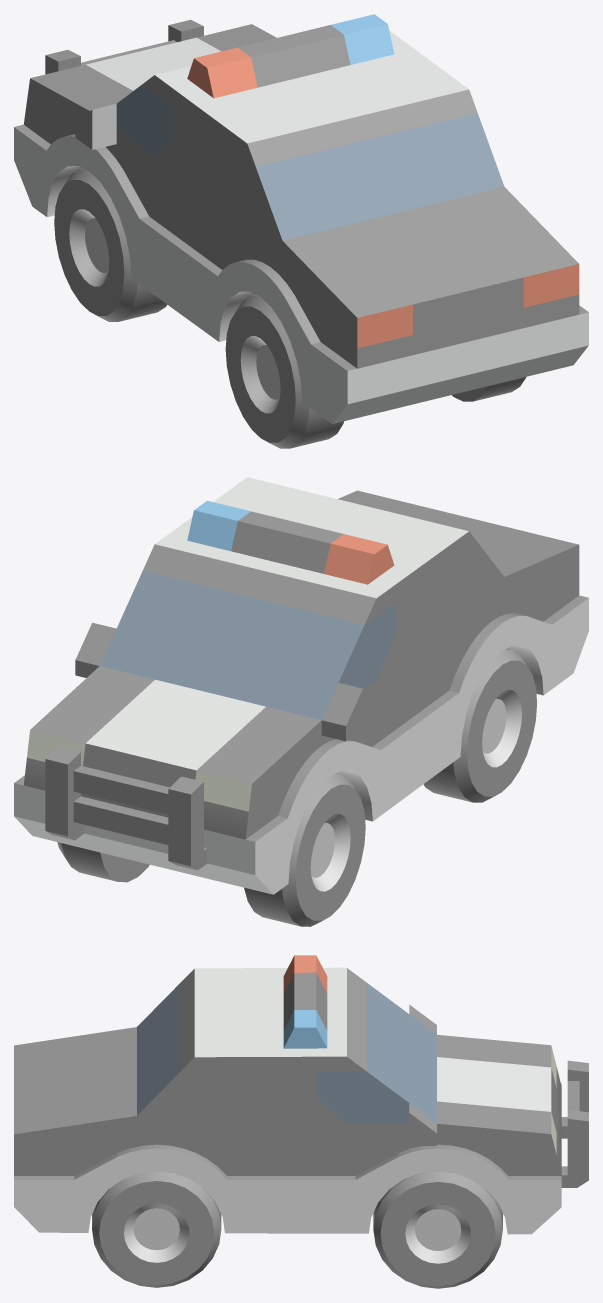
The model's file is carPolice.gltf.
3 renders of one model, top to bottom at view 1: azimuth 30°, elevation 25°; view 2: azimuth 150°, elevation 25°; view 3: azimuth 270°, elevation 25°, orthographic. The views are drawn at different scales.
Parts seen in each view (by area): view 1: body 6, wheelBackLeft 6, wheelFrontLeft 6, bar 2, wheelBackRight 6; view 2: body 6, bar 2, wheelFrontLeft 6, wheelBackLeft 6, wheelFrontRight 6; view 3: body 6, wheelFrontRight 6, wheelBackRight 6, bar 2.
Boxes of the visible parts, left/top/right/bottom form: body 6: left=14, top=14, right=588, bottom=423; wheelBackLeft 6: left=225, top=295, right=343, bottom=448; wheelFrontLeft 6: left=54, top=168, right=167, bottom=321; bar 2: left=45, top=19, right=203, bottom=74; wheelBackRight 6: left=452, top=377, right=526, bottom=401; body 6: left=14, top=477, right=588, bottom=894; bar 2: left=45, top=746, right=207, bottom=870; wheelFrontLeft 6: left=244, top=773, right=365, bottom=926; wheelBackLeft 6: left=423, top=648, right=536, bottom=802; wheelFrontRight 6: left=57, top=842, right=149, bottom=882; body 6: left=14, top=955, right=561, bottom=1234; wheelFrontRight 6: left=373, top=1171, right=502, bottom=1288; wheelBackRight 6: left=92, top=1171, right=221, bottom=1287; bar 2: left=561, top=1060, right=588, bottom=1187.
Bounding box in the file's own units: 0.555 × 0.6063 × 1.24.
